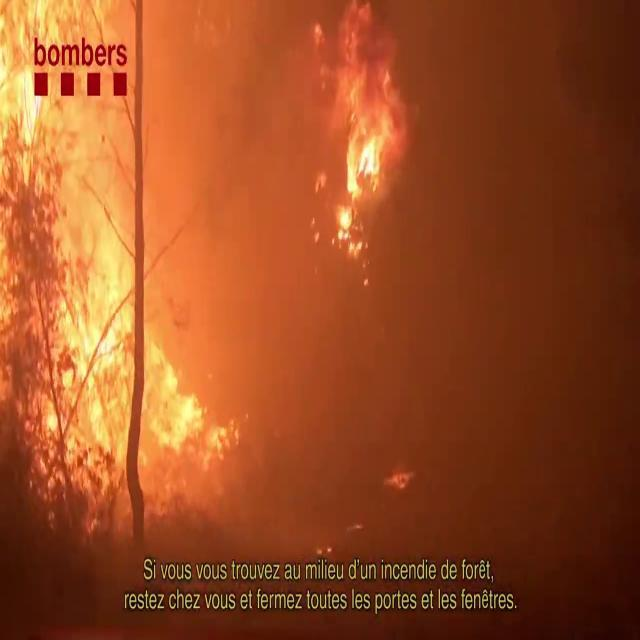Fire: (0, 1, 230, 532), (321, 8, 404, 256)
Smoke: (170, 1, 640, 528)
